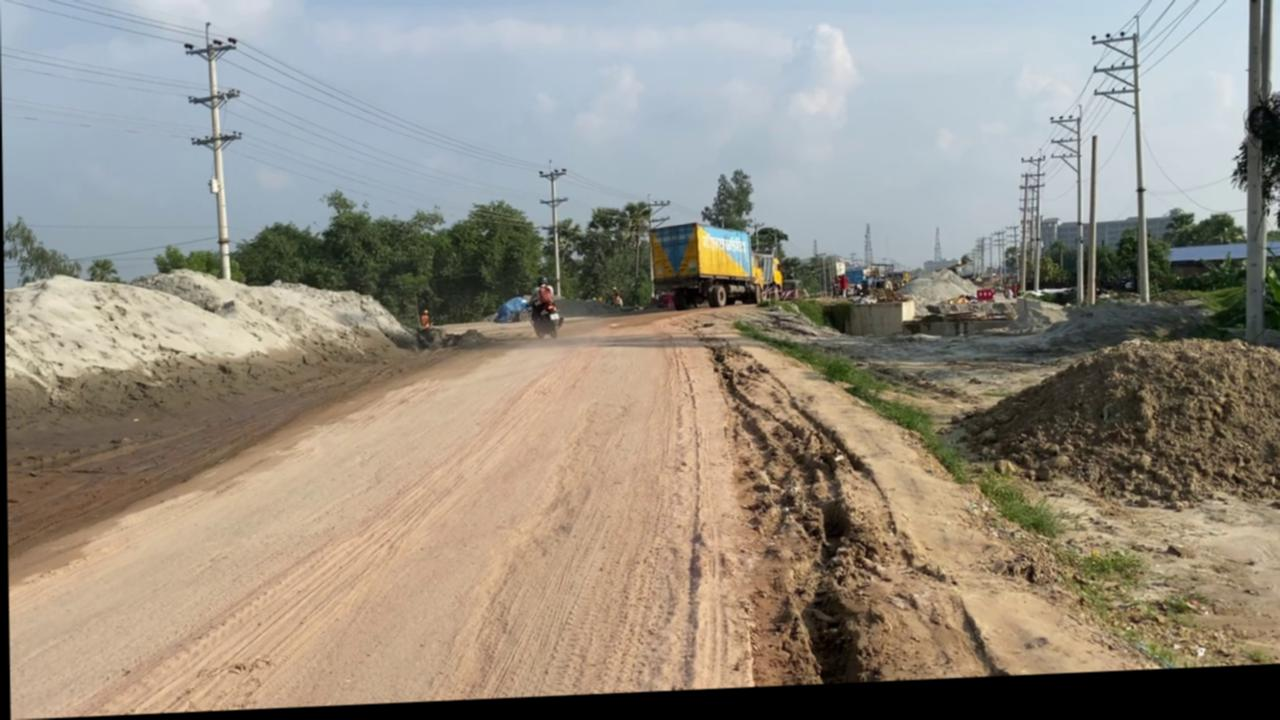Light-pole: (195, 40, 254, 295)
Motorcycle: (547, 310, 583, 356)
Obstacle: (820, 313, 913, 356)
Pole: (1188, 0, 1280, 366), (1087, 45, 1147, 325)
Rickshaw: (724, 326, 1092, 693)
Traffic-sign: (1213, 105, 1280, 257), (701, 187, 756, 255)
Tree: (625, 235, 770, 329), (831, 241, 905, 316), (835, 280, 904, 316), (742, 262, 777, 321), (868, 281, 896, 310)
